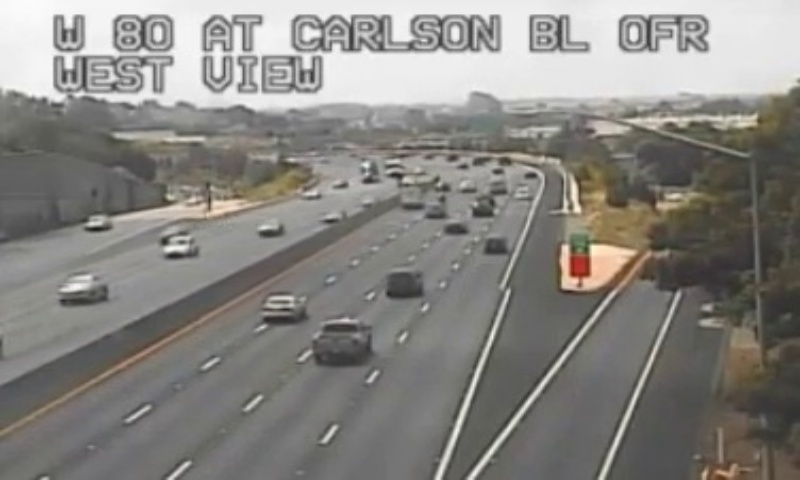car: (310, 317, 370, 360), (259, 294, 304, 321), (385, 267, 419, 295)
